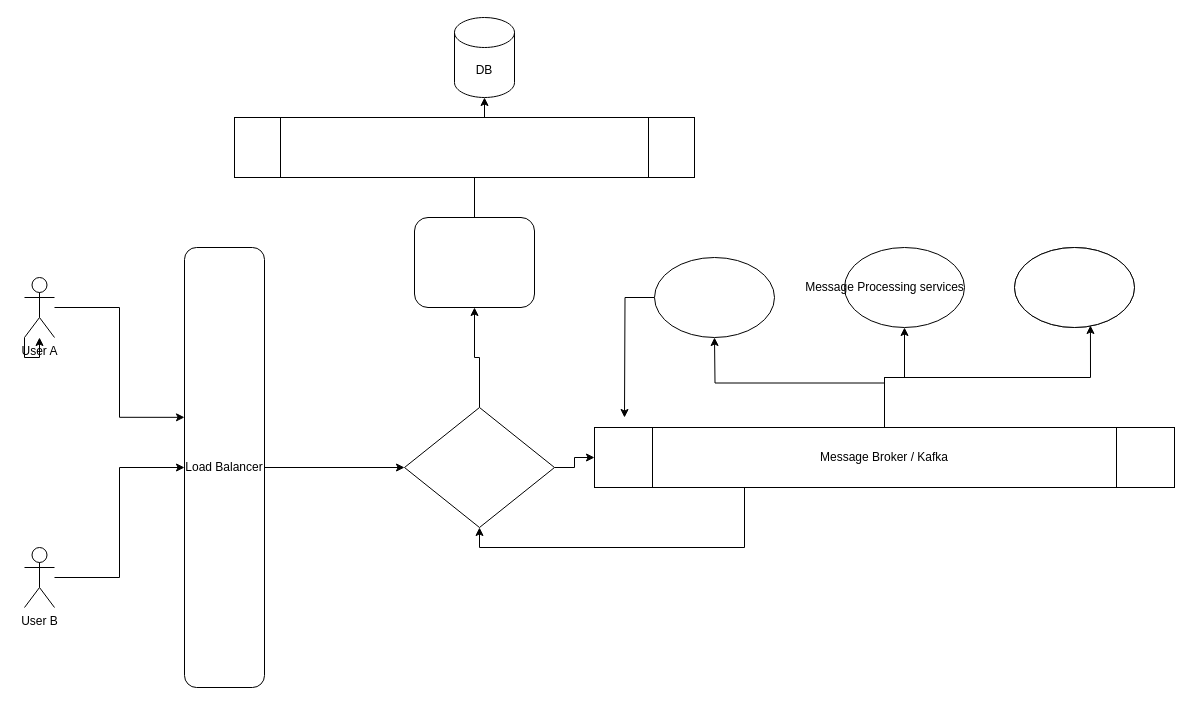
This 1192x705 diagram has some shape labels left out. Here are the shapes that lost their labels. From the top down, the box of each, then its label:
(234, 116, 694, 178): Distributed cache {userId , Socket Id}
(414, 216, 534, 308): IAM Identity Acess Management
(404, 406, 554, 528): API Gateway
